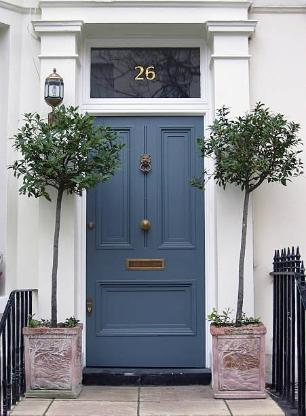door: (76, 104, 210, 383)
tree: (196, 99, 305, 402), (10, 103, 119, 399)
